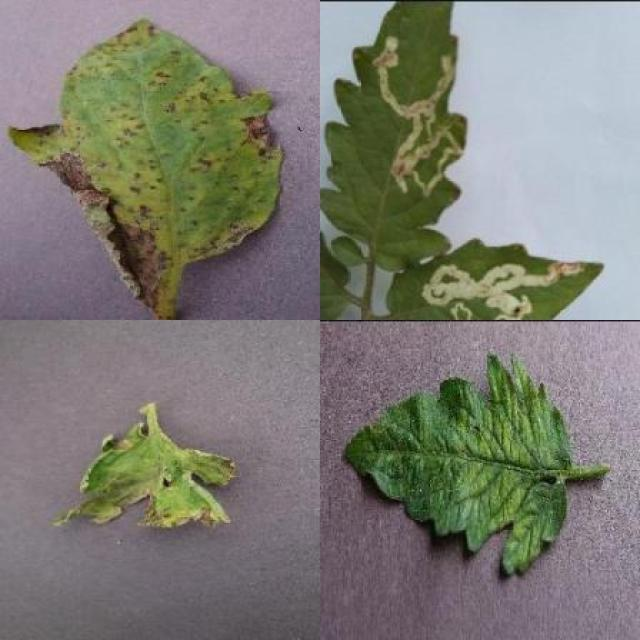Late Blight: (55, 418, 242, 532)
Leaf Miner: (320, 0, 467, 260), (384, 237, 605, 320)
Mosaic Virus: (341, 350, 574, 577)
Septoria: (10, 17, 283, 320)
